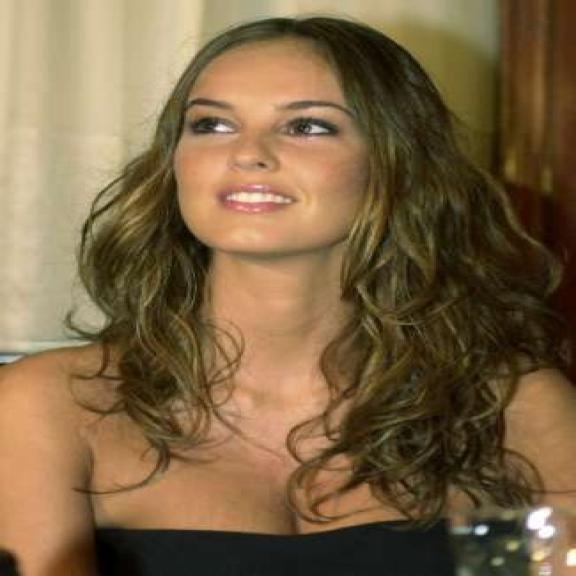face: (165, 26, 379, 264)
